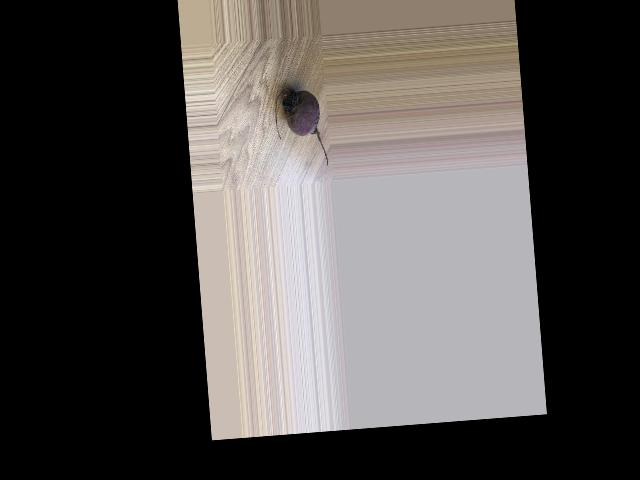beet: (273, 86, 328, 169)
